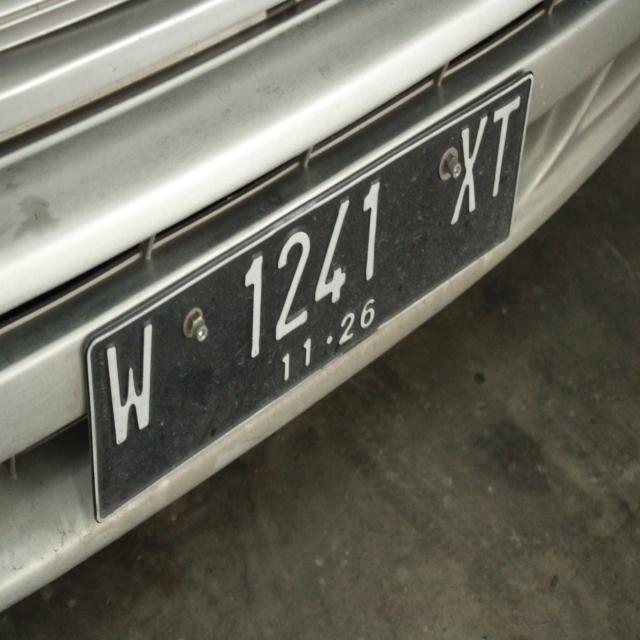1: (354, 174, 396, 292), (234, 254, 270, 372)
2: (269, 230, 314, 348)
4: (312, 198, 359, 320)
T: (484, 94, 526, 204)
W: (99, 316, 162, 446)
X: (452, 112, 489, 235)
